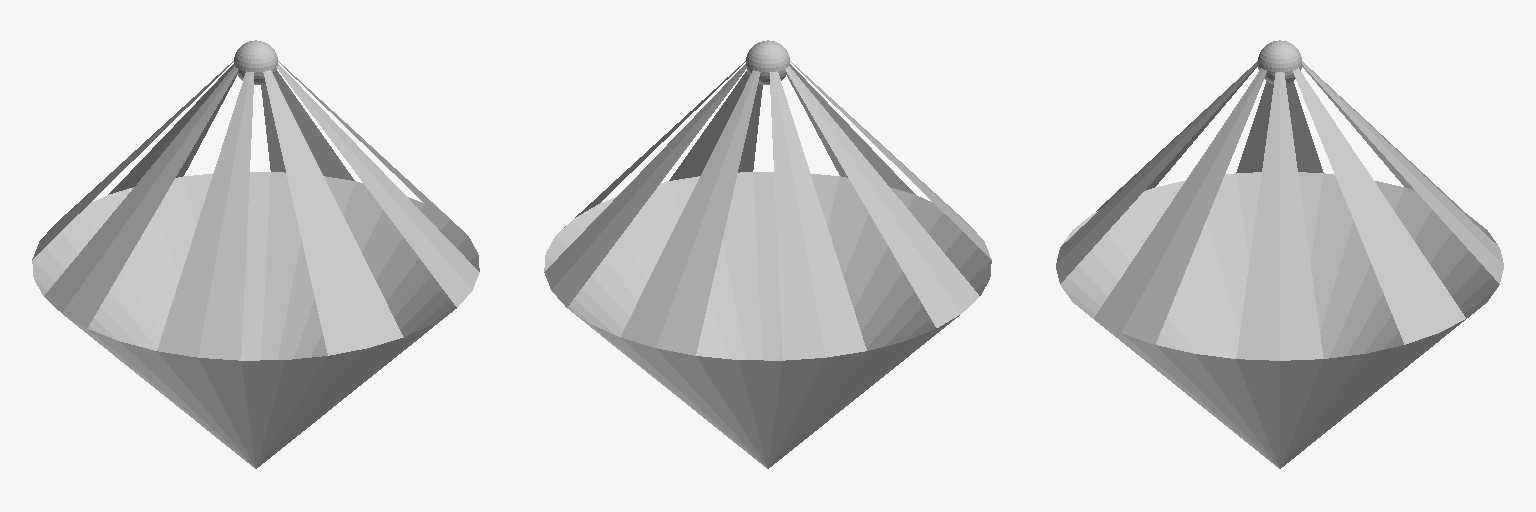
Rendered from Enemy_1.obj.
3 views of the same model, side by side, from view 1: azimuth 30°, elevation 25°; view 2: azimuth 150°, elevation 25°; view 3: azimuth 270°, elevation 25° (orthographic).
Visible parts, largest first — view 1: Cone; view 2: Cone; view 3: Cone.
Part boxes in pixels (x1,y1,x2,y2): Cone: (32,40,479,468); Cone: (544,40,991,468); Cone: (1056,40,1503,468).
Bounding box in the file's own units: 2 × 2.1 × 2.